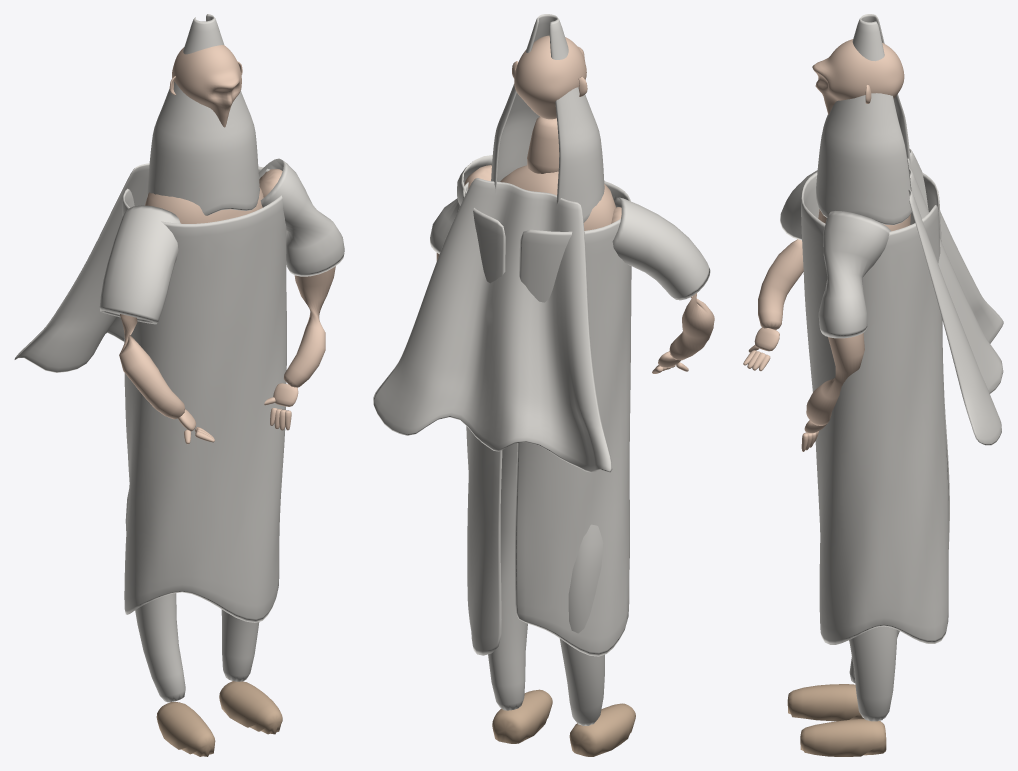
The model's file is foundry_mystic.glb.
3 views of the same model, side by side, from view 1: azimuth 30°, elevation 25°; view 2: azimuth 150°, elevation 25°; view 3: azimuth 270°, elevation 25° (orthographic). The views are drawn at different scales.
Visible parts, largest first — view 1: Robe, Hood, Cape, SleeveR, SleeveL, LegR, Head, ArmL, ArmR, BootL, BootR, LegL (+1 smaller); view 2: Cape, Robe, Hood, SleeveR, LegL, LegR, Head, BootR, BootL, ArmR, Body, Neck (+1 smaller); view 3: Robe, Hood, Cape, SleeveL, Head, LegL, BootL, BootR, ArmR, ArmL, SleeveR, Palm-1.
Boxes of the visible parts, bbox=[...] form: Robe: bbox=[122, 166, 286, 622]; Hood: bbox=[147, 14, 259, 215]; Cape: bbox=[14, 163, 149, 372]; SleeveR: bbox=[99, 205, 180, 324]; SleeveL: bbox=[258, 158, 344, 276]; LegR: bbox=[125, 489, 185, 702]; Head: bbox=[172, 45, 241, 127]; ArmL: bbox=[259, 169, 335, 387]; ArmR: bbox=[119, 314, 184, 419]; BootL: bbox=[219, 681, 282, 734]; BootR: bbox=[156, 702, 215, 756]; LegL: bbox=[221, 609, 259, 681]; Cape: bbox=[373, 178, 612, 472]; Robe: bbox=[462, 181, 631, 656]; Hood: bbox=[491, 14, 604, 222]; SleeveR: bbox=[612, 196, 710, 300]; LegL: bbox=[488, 443, 527, 710]; LegR: bbox=[559, 524, 604, 726]; Head: bbox=[514, 35, 586, 119]; BootR: bbox=[569, 703, 635, 756]; BootL: bbox=[492, 689, 552, 743]; ArmR: bbox=[611, 207, 714, 360]; Body: bbox=[500, 165, 615, 230]; Neck: bbox=[527, 116, 559, 173]; Robe: bbox=[801, 172, 949, 644]; Hood: bbox=[816, 14, 911, 225]; Cape: bbox=[907, 149, 1003, 445]; SleeveL: bbox=[818, 211, 890, 338]; Head: bbox=[812, 39, 904, 114]; LegL: bbox=[849, 626, 897, 721]; BootL: bbox=[800, 719, 886, 756]; BootR: bbox=[787, 684, 864, 721]; ArmR: bbox=[758, 239, 803, 329]; ArmL: bbox=[806, 333, 864, 425]; SleeveR: bbox=[780, 170, 817, 240]; Palm-1: bbox=[754, 327, 779, 351].
Size of the model in its own units: 0.7202 by 1.92 by 0.6358.
